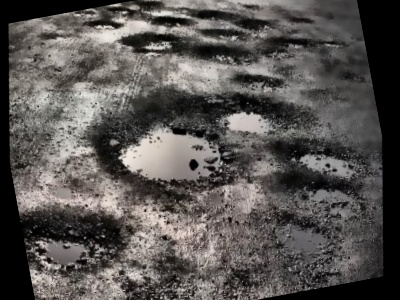pothole: (74, 65, 254, 220), (17, 186, 136, 294), (252, 196, 359, 298), (212, 76, 324, 153), (266, 158, 373, 236), (265, 122, 372, 197), (186, 30, 260, 80), (114, 19, 186, 66), (253, 22, 315, 70), (225, 61, 289, 102), (148, 6, 196, 37), (189, 0, 237, 30), (231, 9, 276, 40), (88, 13, 123, 36), (104, 2, 130, 17), (137, 0, 163, 12), (114, 0, 136, 4)
